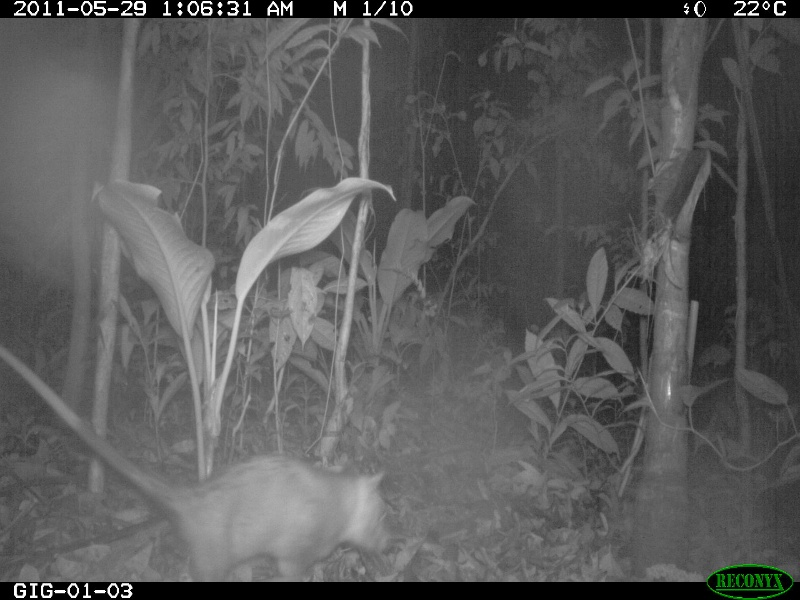opossum: (1, 338, 402, 578)
